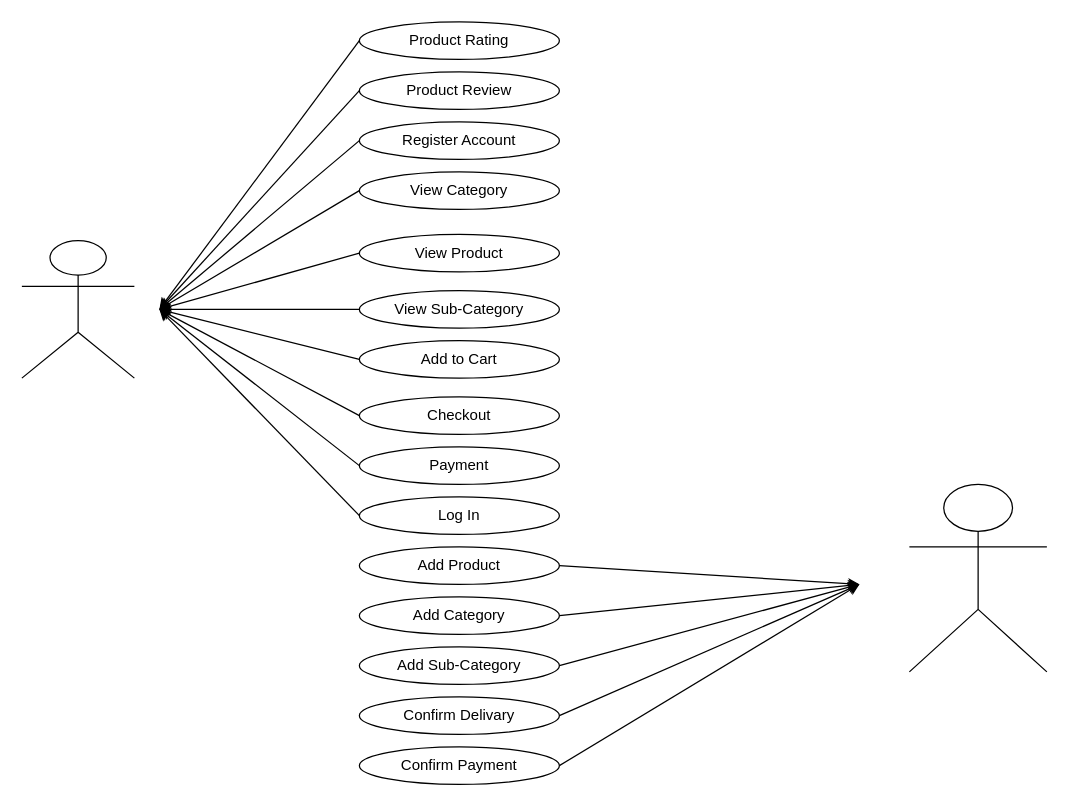
Image size: 1069x806. Some labels were removed from this diagram. The centre of each missing label's shape, as x and y in pixels:
Admin: (x=977, y=577)
Customer: (x=77, y=308)
